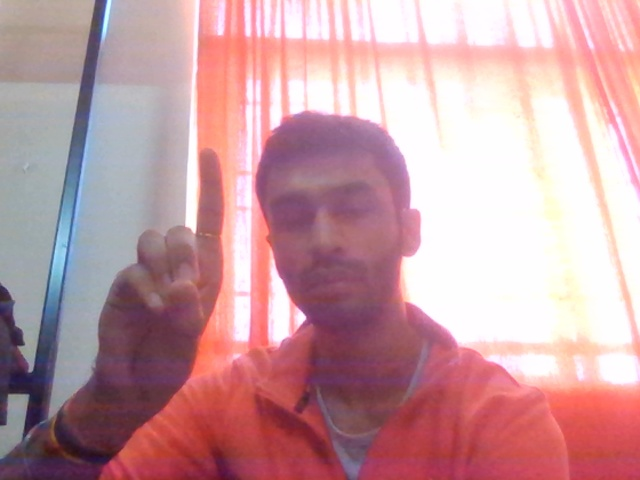D: (72, 134, 246, 422)
